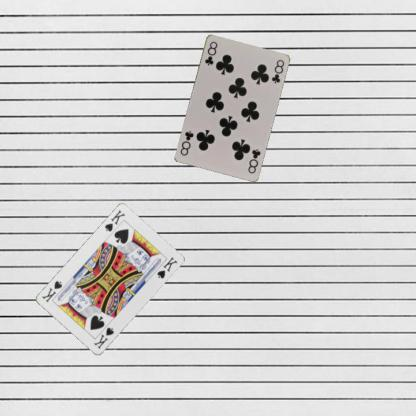8c: (245, 146, 262, 175), (203, 39, 219, 66)
Ks: (102, 207, 127, 233), (91, 325, 115, 350)
